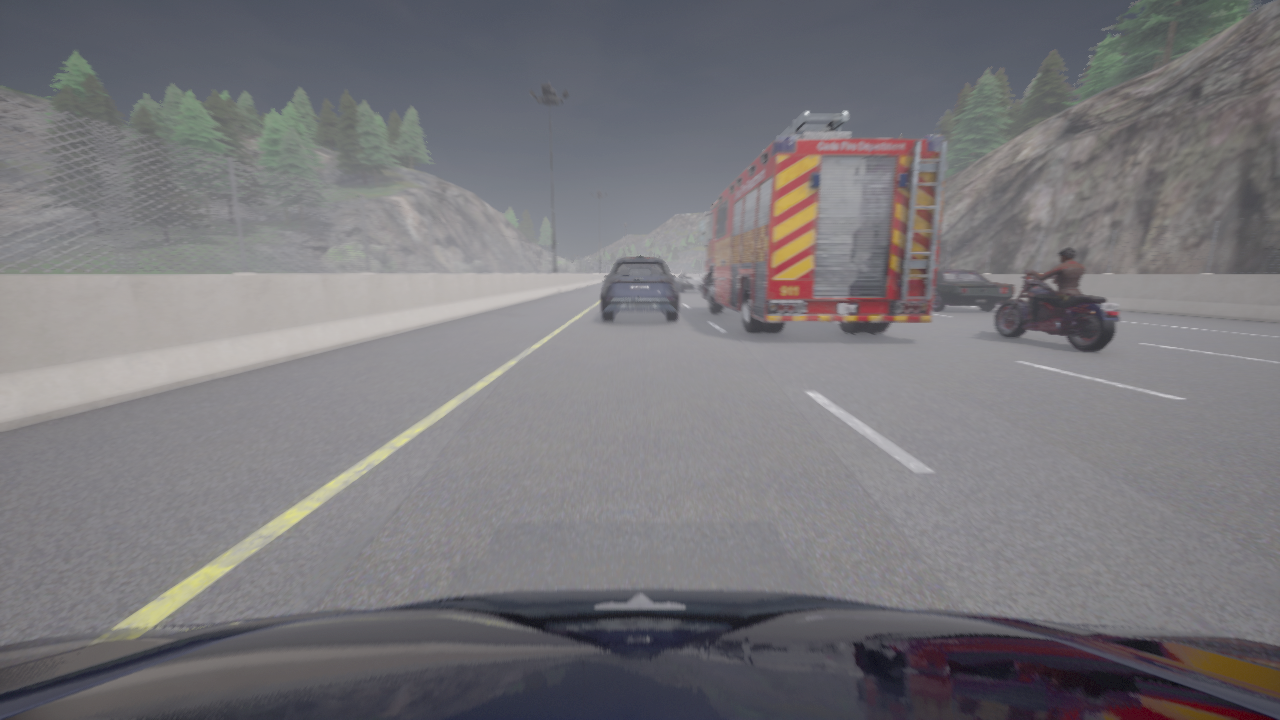cyclist: (0, 588, 1279, 719), (697, 112, 947, 333), (995, 270, 1118, 351), (601, 257, 678, 321), (931, 271, 1013, 310), (677, 272, 704, 292)
